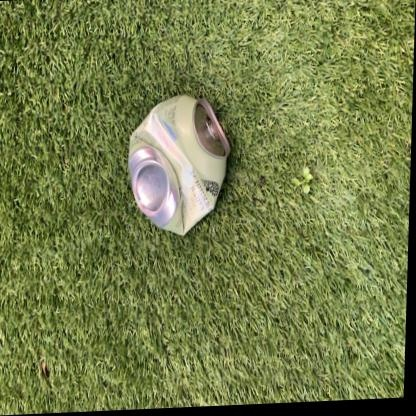trash: (129, 95, 229, 234)
